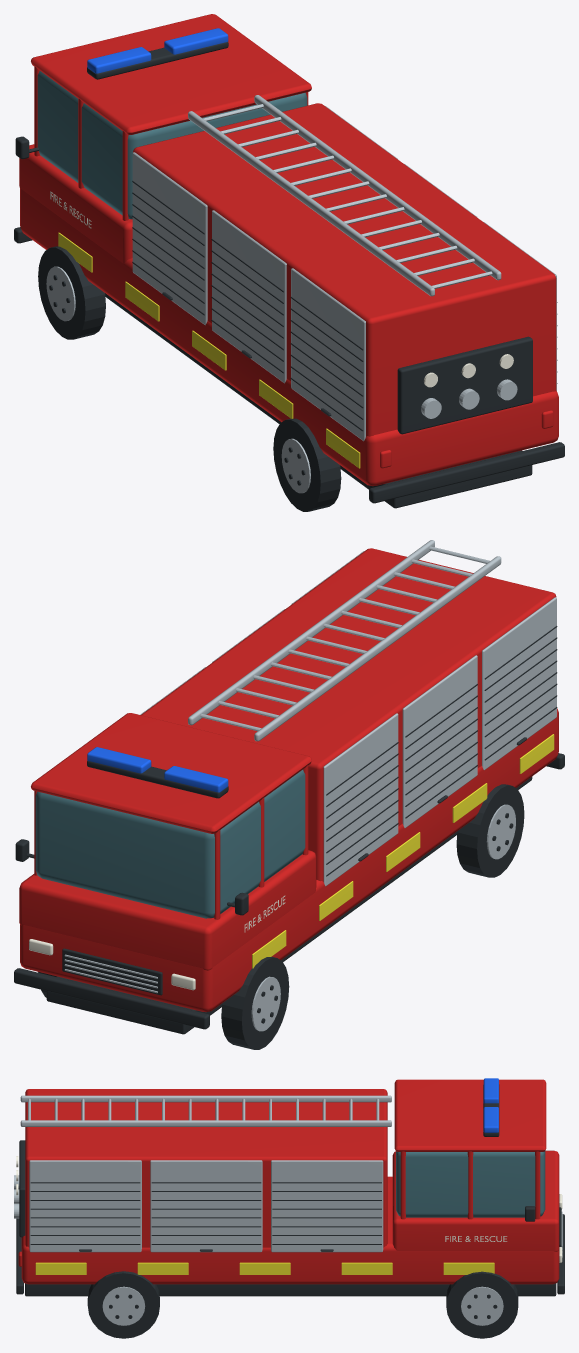
Rendered from pump.glb.
3 renders of one model, top to bottom at view 1: azimuth 30°, elevation 25°; view 2: azimuth 150°, elevation 25°; view 3: azimuth 270°, elevation 25°, orthographic. The views are drawn at different scales.
Parts seen in each view (by area): view 1: Equipment canopy, Lower body, Cab roof, Glazed crew cabin, Roller shutter.002, Roller shutter.001, Roller shutter, Rear pump console, Cab sill, Wheel_Rear_L, Wheel_Front_L, Impact bumper (+8 smaller); view 2: Equipment canopy, Glazed crew cabin, Lower body, Cab roof, Cab sill, Roller shutter.001, Roller shutter.002, Roller shutter, Wheel_Rear_L, Wheel_Front_L, Impact bumper.001, Ladder stile (+8 smaller); view 3: Equipment canopy, Lower body, Cab roof, Roller shutter.003, Roller shutter.004, Roller shutter.005, Glazed crew cabin, Cab sill, Chassis, Ladder stile, Wheel_Rear_R, Wheel_Front_R (+16 smaller).
Boxes of the visible parts, x1,y1,x2,y2 form: Equipment canopy: (133, 103, 556, 436); Lower body: (20, 189, 558, 485); Cab roof: (31, 14, 311, 134); Glazed crew cabin: (37, 71, 307, 219); Roller shutter.002: (132, 152, 207, 325); Roller shutter.001: (212, 210, 286, 383); Roller shutter: (291, 268, 365, 441); Rear pump console: (397, 336, 532, 434); Cab sill: (19, 144, 132, 263); Wheel_Rear_L: (273, 418, 341, 511); Wheel_Front_L: (38, 246, 105, 339); Impact bumper: (369, 442, 564, 503); Equipment canopy: (141, 548, 556, 881); Glazed crew cabin: (35, 769, 305, 918); Lower body: (20, 708, 558, 1011); Cab roof: (31, 713, 311, 833); Cab sill: (19, 850, 316, 970); Roller shutter.001: (402, 655, 477, 828); Roller shutter.002: (323, 713, 398, 886); Roller shutter: (482, 597, 556, 770); Wheel_Rear_L: (456, 784, 524, 877); Wheel_Front_L: (221, 956, 289, 1049); Impact bumper.001: (14, 968, 209, 1029); Ladder stile: (254, 556, 501, 741); Equipment canopy: (25, 1089, 387, 1247); Lower body: (21, 1176, 559, 1284); Cab roof: (394, 1079, 546, 1151); Roller shutter.003: (29, 1160, 141, 1252); Roller shutter.004: (150, 1160, 262, 1252); Roller shutter.005: (271, 1160, 383, 1252); Glazed crew cabin: (396, 1151, 545, 1217); Cab sill: (392, 1150, 559, 1251); Chassis: (25, 1283, 556, 1296); Ladder stile: (20, 1095, 391, 1102); Wheel_Rear_R: (87, 1271, 159, 1338); Wheel_Front_R: (446, 1271, 518, 1338).
Bounding box in the file's own units: 2.89 × 3.15 × 7.93.
